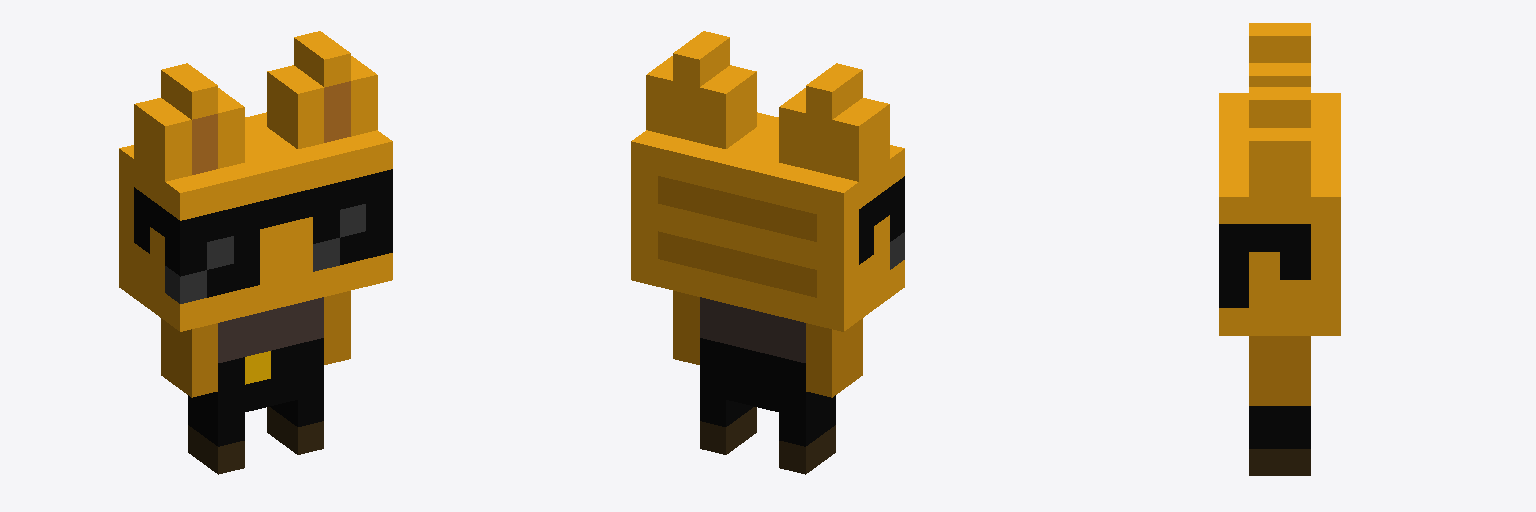
The picture shows the model from 3 angles: view 1: azimuth 30°, elevation 25°; view 2: azimuth 150°, elevation 25°; view 3: azimuth 270°, elevation 25°; orthographic projection.
Parts seen in each view (by area): view 1: object 1; view 2: object 1; view 3: object 1.
Boxes of the visible parts, <box> form: object 1: <box>119,31,392,474</box>; object 1: <box>631,31,904,474</box>; object 1: <box>1219,23,1340,475</box>.
Bounding box in the file's own units: 0.8 × 1.4 × 0.4.
1 materials, 1 textured.